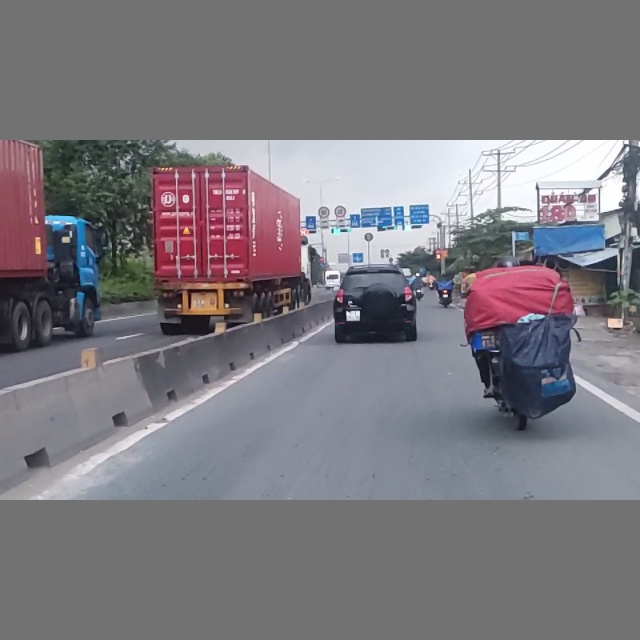P.127*60: (335, 205, 347, 217)
P.127*80: (319, 207, 330, 218)
